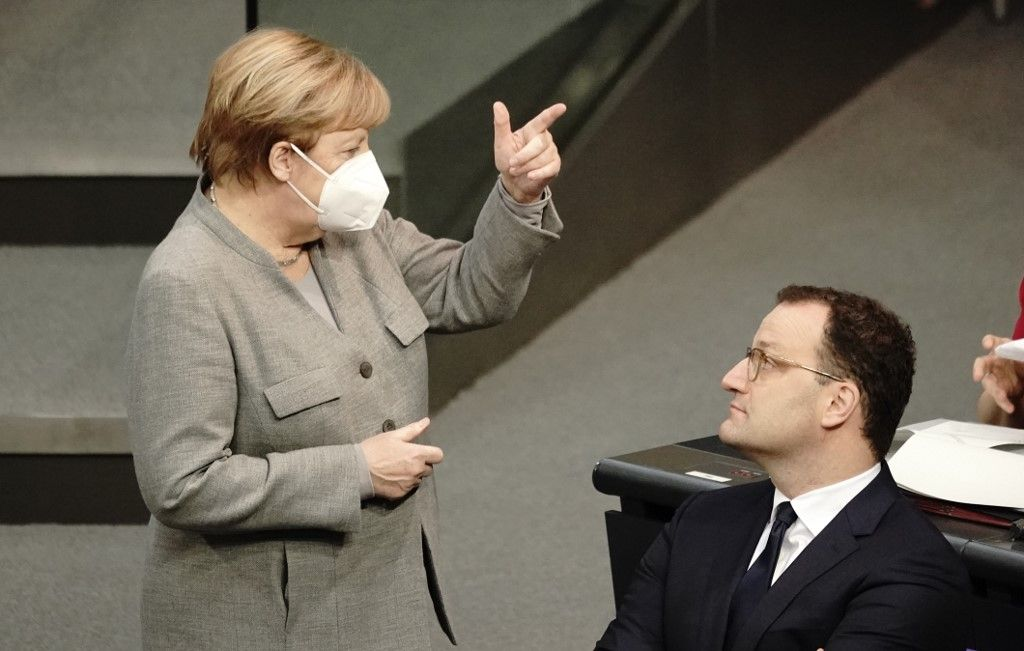with_mask: (271, 104, 401, 255)
without_mask: (706, 309, 831, 473)
